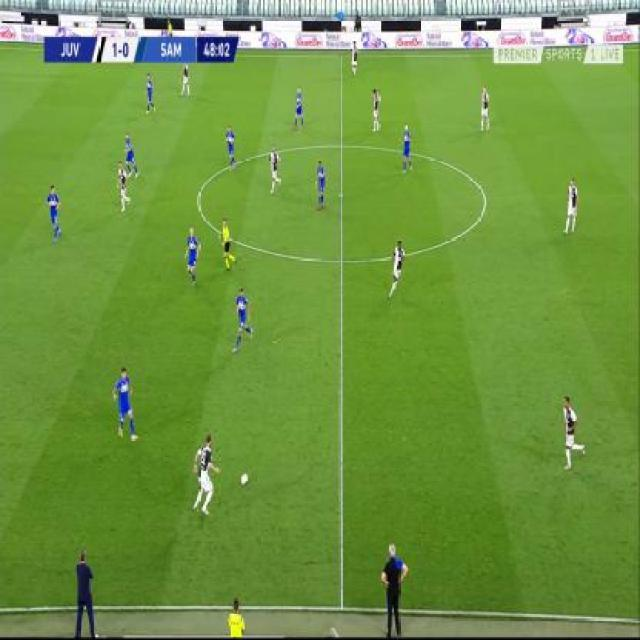ball: (240, 471, 249, 488)
player: (380, 541, 411, 640), (74, 541, 99, 638), (192, 432, 220, 517), (110, 366, 139, 442), (560, 393, 586, 469), (232, 285, 254, 353), (45, 183, 62, 246), (218, 216, 237, 272), (389, 238, 406, 298), (564, 175, 580, 237), (185, 226, 201, 286), (228, 595, 248, 638), (116, 160, 130, 214), (268, 143, 282, 196), (399, 123, 413, 174), (315, 158, 328, 212), (125, 130, 139, 179), (144, 71, 157, 116), (292, 85, 305, 130), (479, 84, 490, 133), (226, 124, 237, 173), (370, 85, 381, 133), (179, 61, 192, 98), (351, 41, 359, 77)
